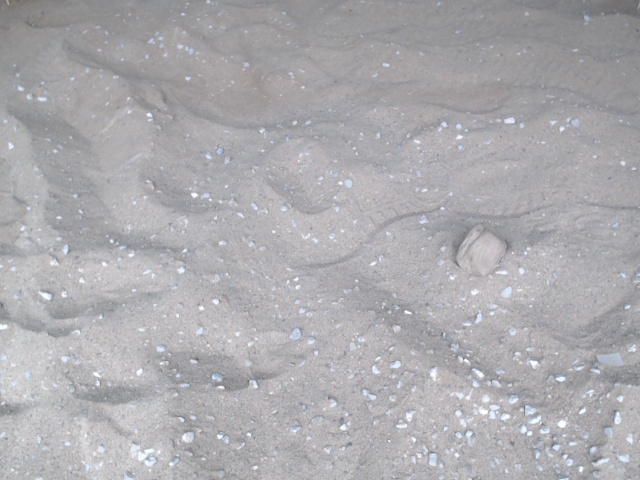rock: (449, 216, 514, 282)
